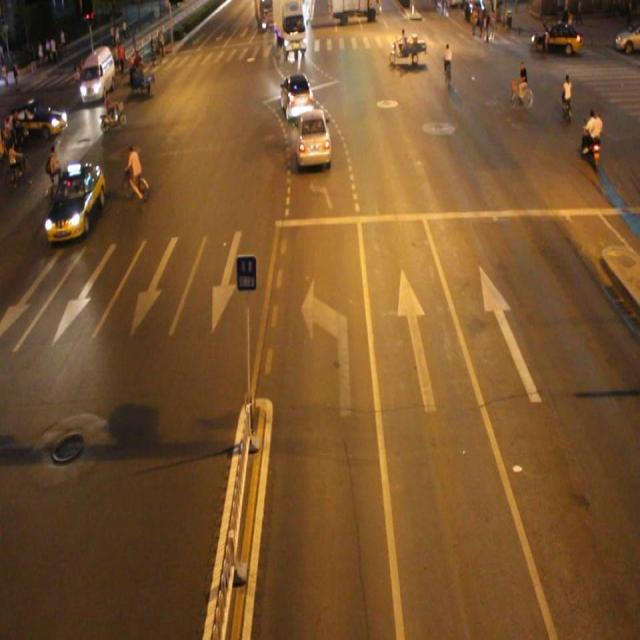car: (46, 162, 103, 238), (293, 108, 332, 171), (278, 70, 315, 121)
